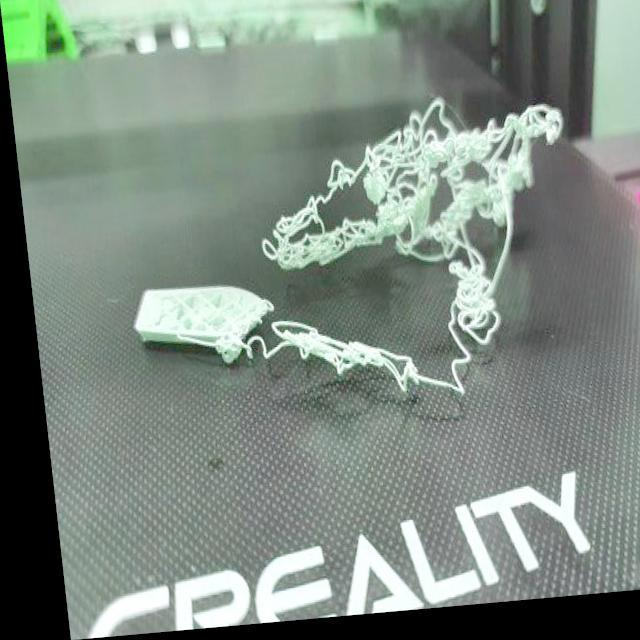spaghetti: (242, 88, 588, 426), (168, 323, 265, 380)
